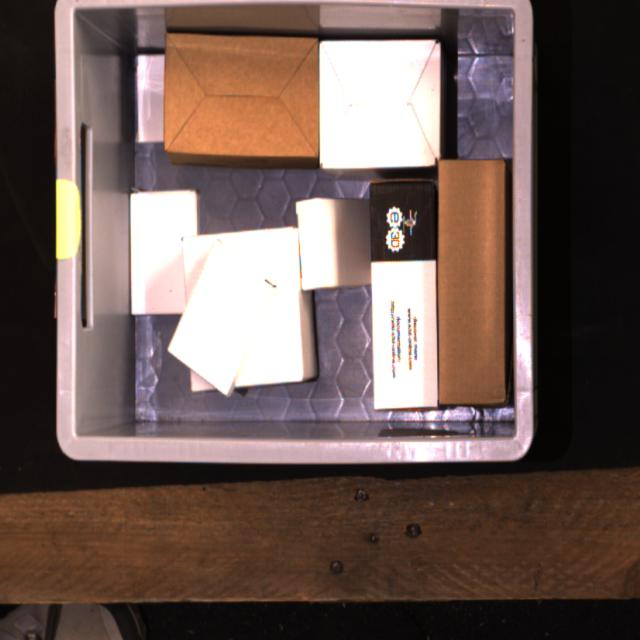Cardboard Box: (185, 229, 314, 394), (164, 34, 318, 165), (438, 159, 507, 404), (169, 239, 271, 396), (319, 40, 440, 167), (372, 262, 435, 409), (130, 191, 199, 315), (297, 198, 370, 289), (297, 198, 370, 288), (370, 181, 437, 261), (136, 55, 163, 143)
